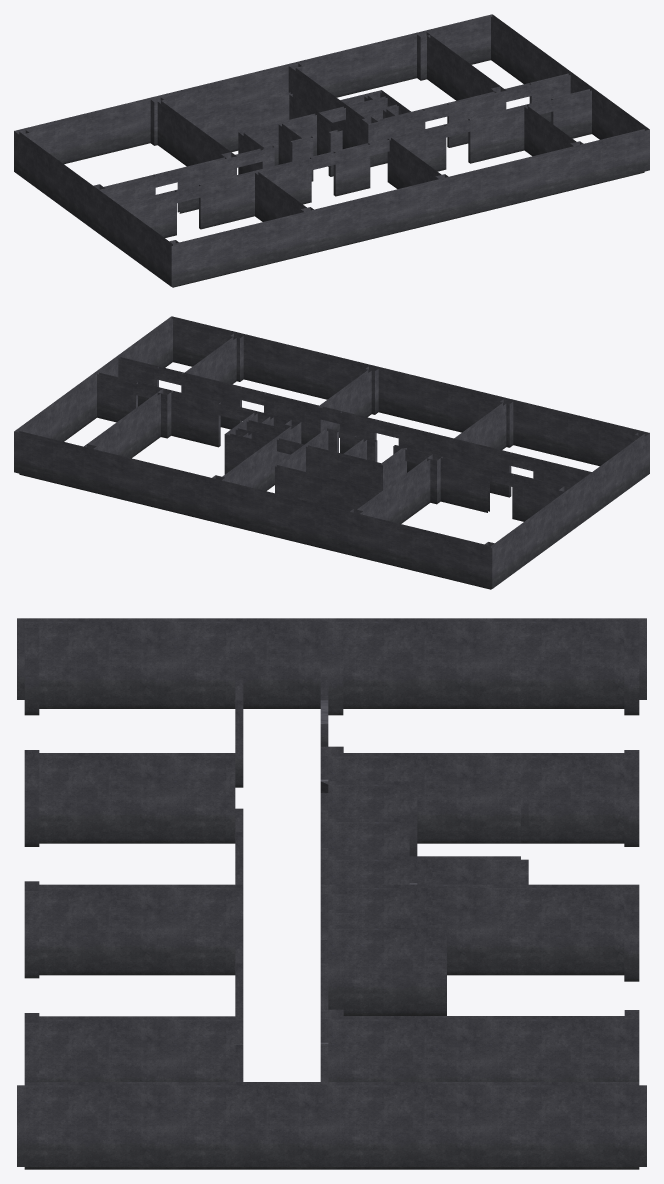
The model's file is 5f墙体.gltf.
The picture shows the model from 3 angles, top to bottom: view 1: azimuth 30°, elevation 25°; view 2: azimuth 150°, elevation 25°; view 3: azimuth 270°, elevation 25°; orthographic projection. The views are drawn at different scales.
Visible parts, largest first — view 1: 5f墙体; view 2: 5f墙体; view 3: 5f墙体.
Boxes of the visible parts, box(x1,y1,x2,y2) form: 5f墙体: box(14, 14, 649, 287); 5f墙体: box(14, 316, 649, 589); 5f墙体: box(17, 618, 646, 1169).
Bounding box in the file's own units: 3437 × 300 × 1961.
Materials: 1 (1 with a texture image).
